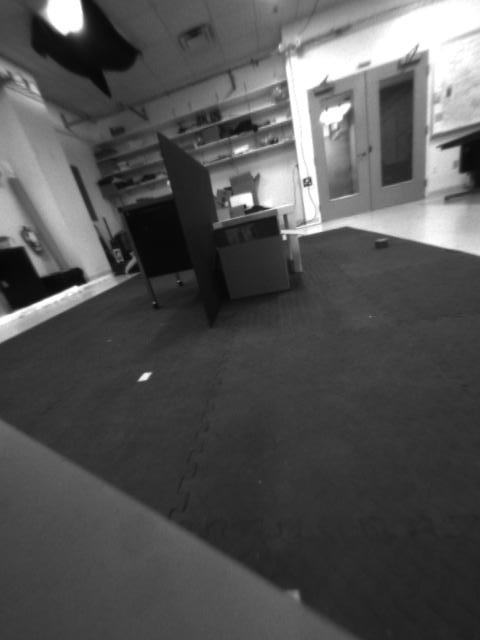dogtoy: (369, 232, 397, 256)
